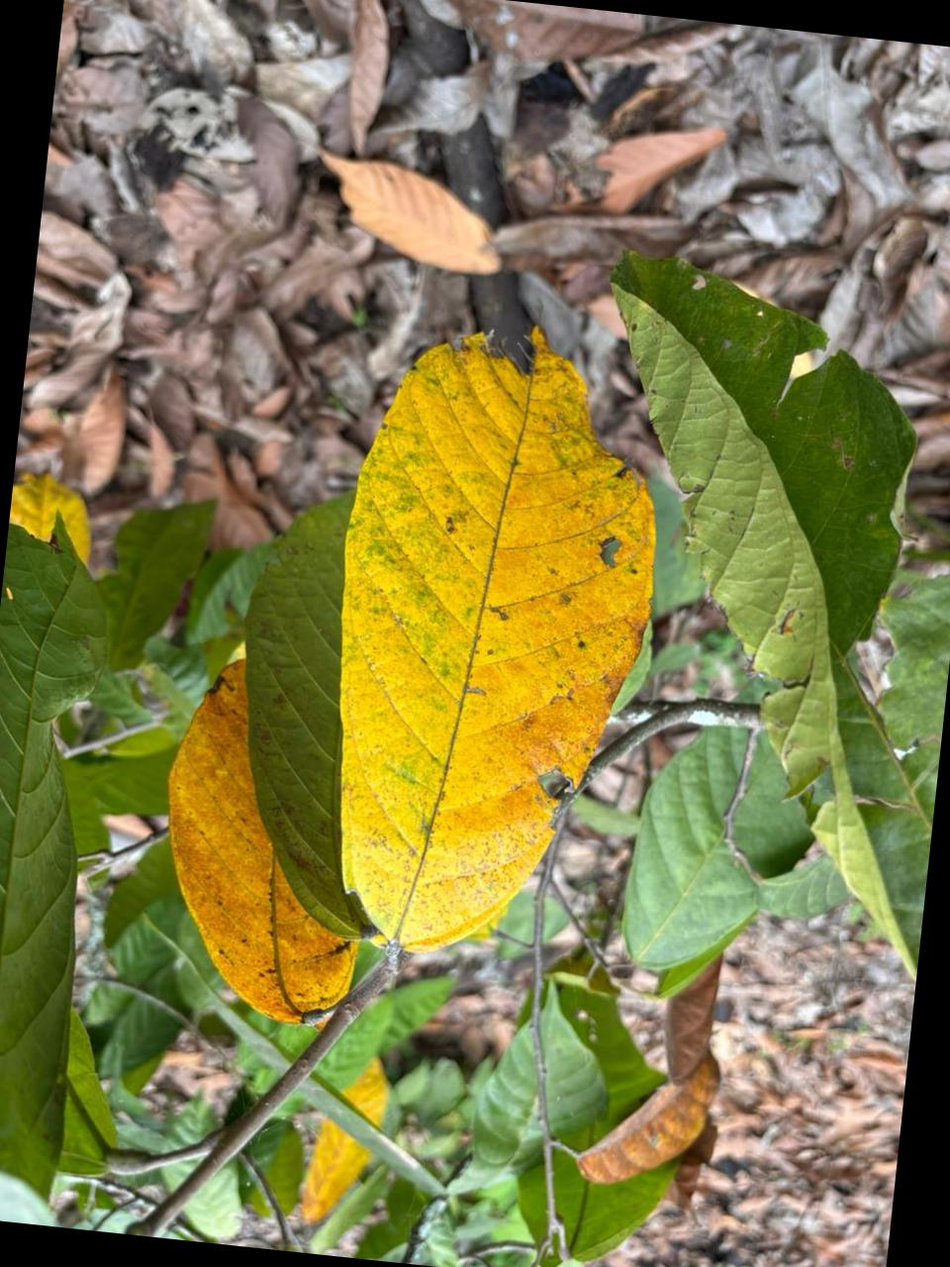Fosforo: (342, 333, 653, 950)
